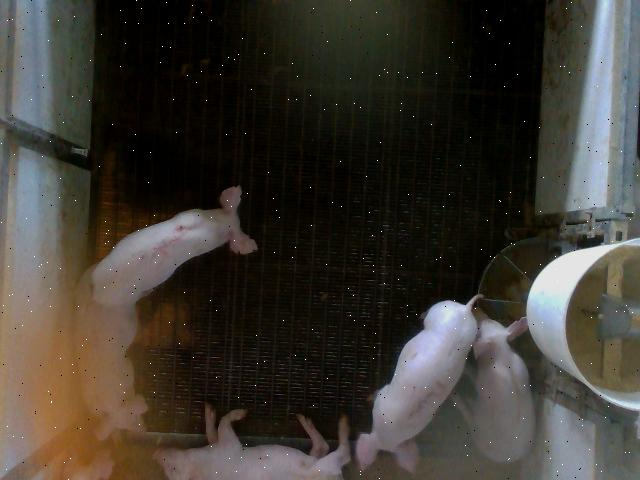pig-5: (91, 186, 255, 306)
